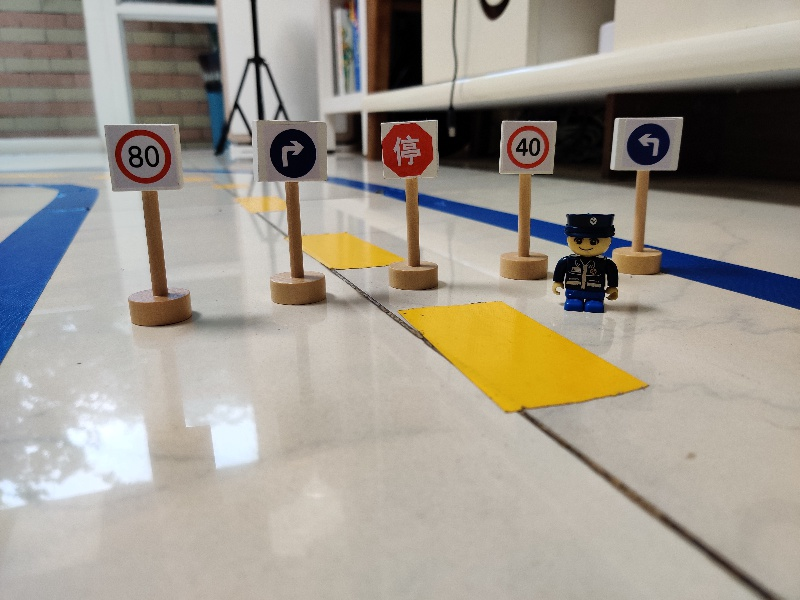limit_40: (493, 117, 561, 178)
limit_80: (99, 121, 187, 195)
person: (550, 208, 619, 317)
stop: (376, 120, 443, 179)
turn_left: (605, 116, 684, 174)
turn_right: (246, 117, 332, 184)
